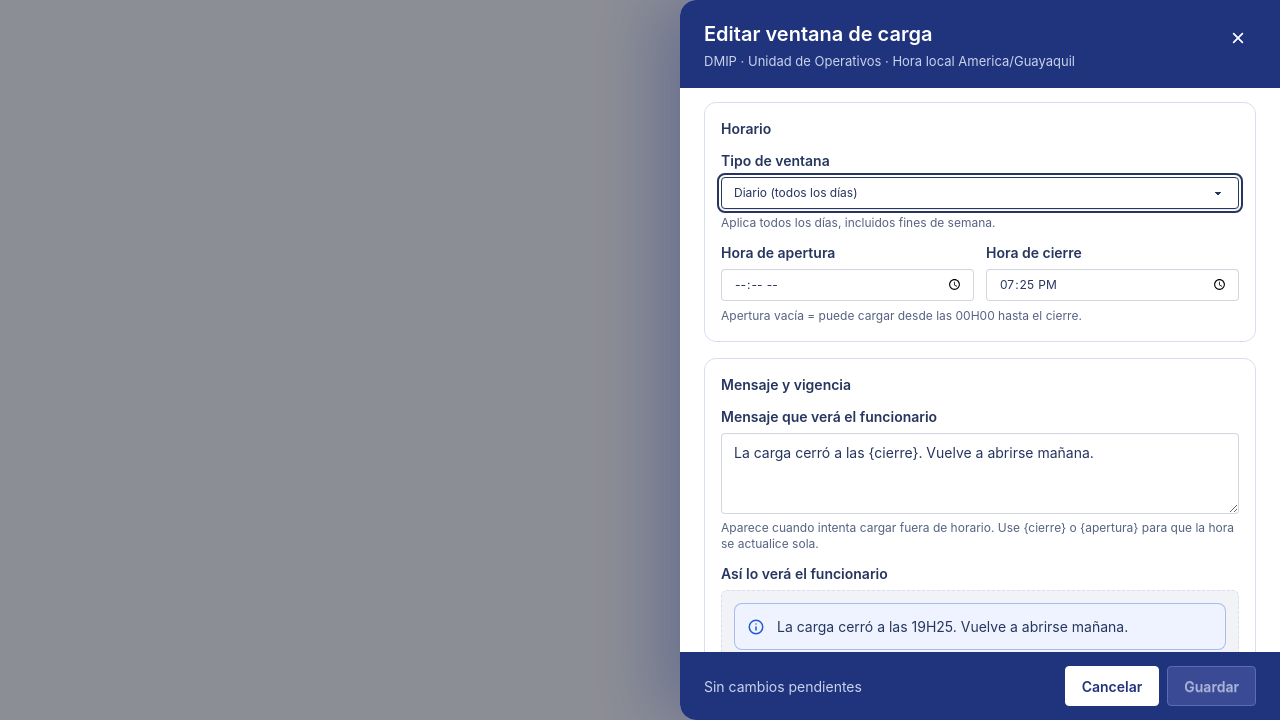
Test: «Editar ventana de carga» · apertura y cierre › con cambios, Esc pregunta; Esc sobre la pregunta vuelve a la edición
Replace the text in the time field labelled "Hora de cierre" with "18:00" at (1112,284), box top-left (986, 268), bottom-right (1239, 300)
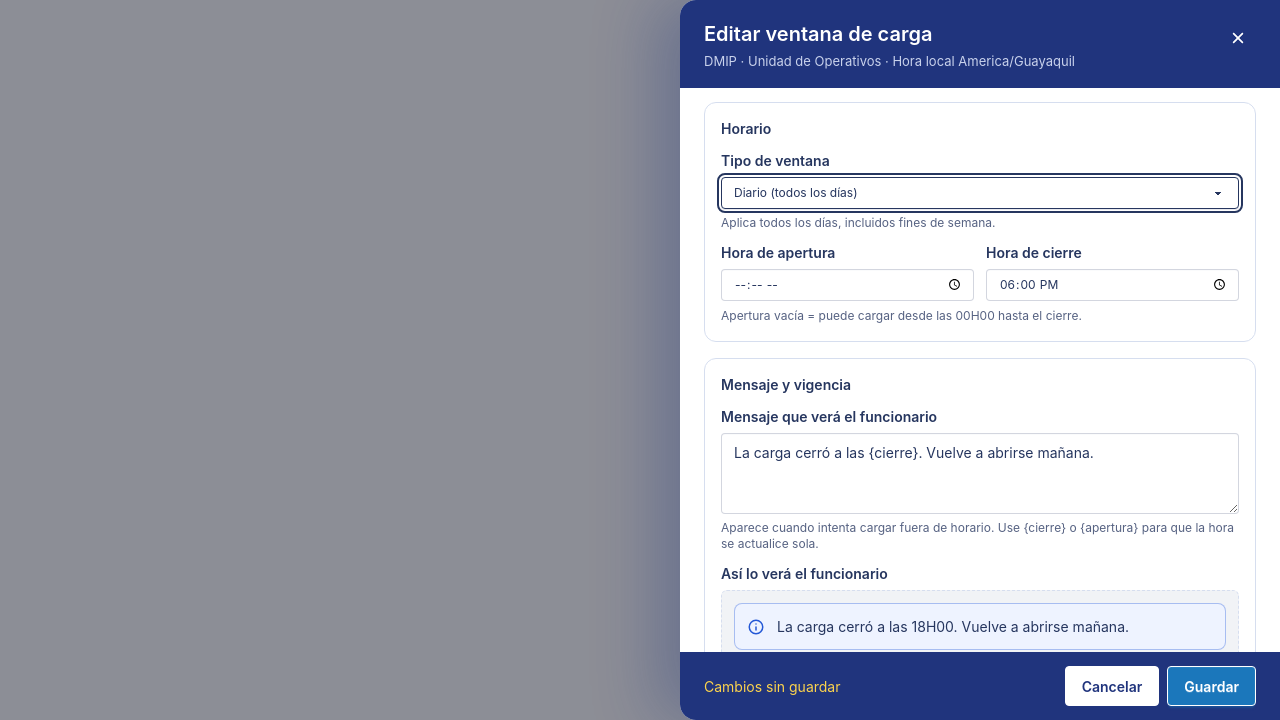
Press Escape
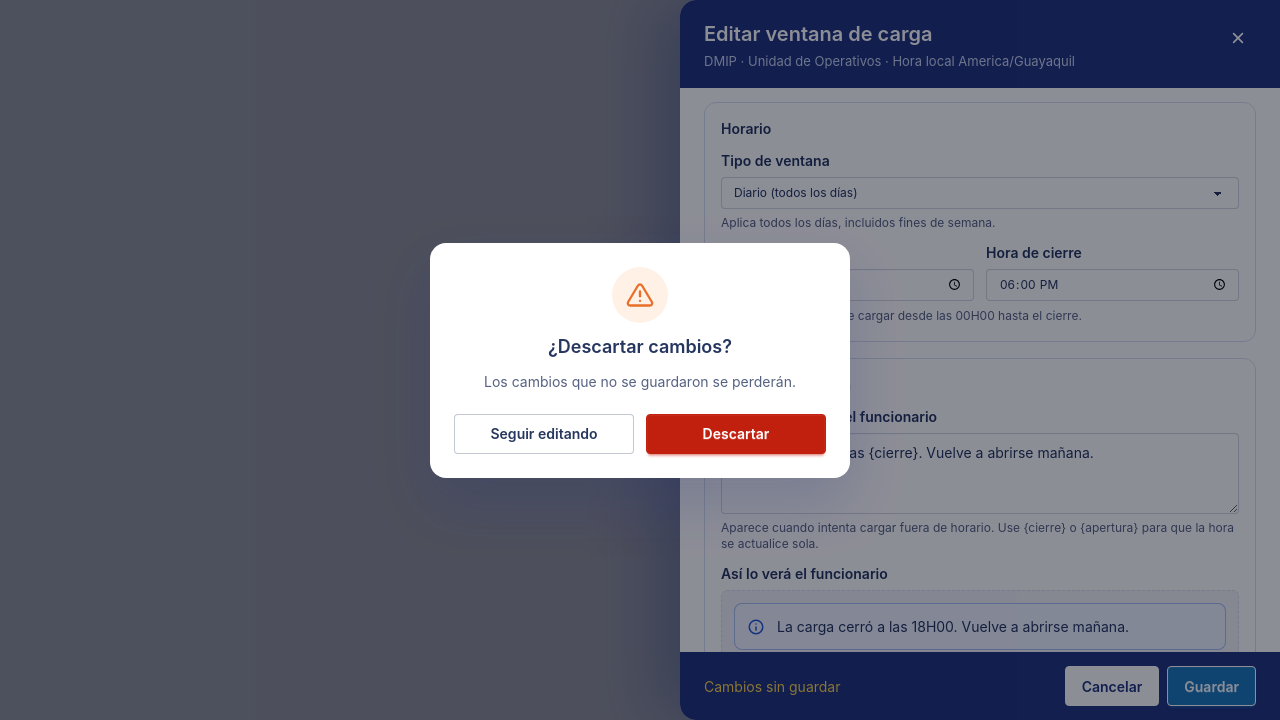
Result: the heading "¿Descartar cambios?" is shown at top-left (548, 332), bottom-right (732, 360)
Press Escape
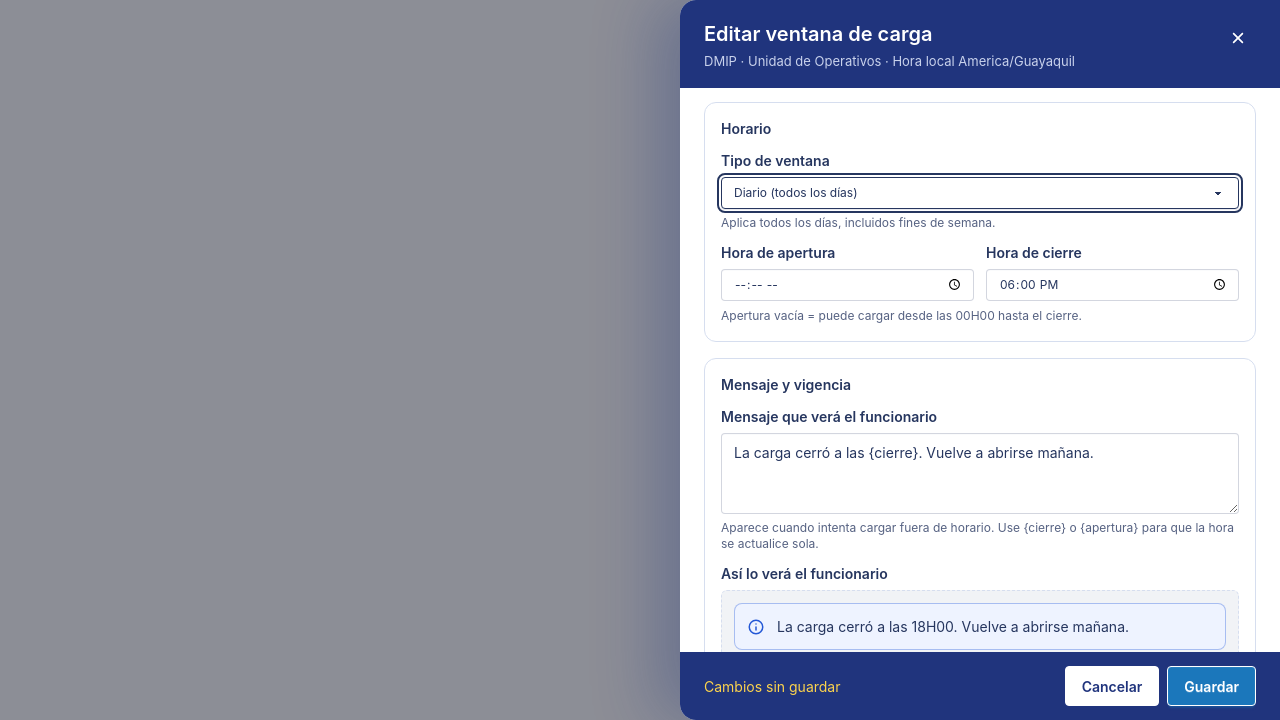
Expected: the button "Guardar" is shown, top-left (1167, 666), bottom-right (1256, 706)
Result: the heading "¿Descartar cambios?" is gone
